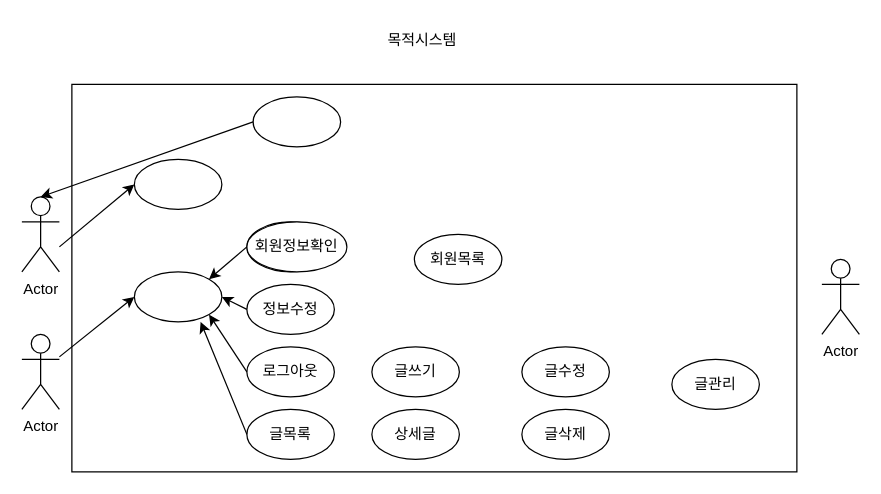
Image size: 881x494. Some labels were removed from this diagram. The shapes that lost their labels are listed below. From the top down, each one's centre as x and y in pixels, then its label:
(296,121): 회원탈퇴
(177,183): 회원가입
(177,296): 로그인
